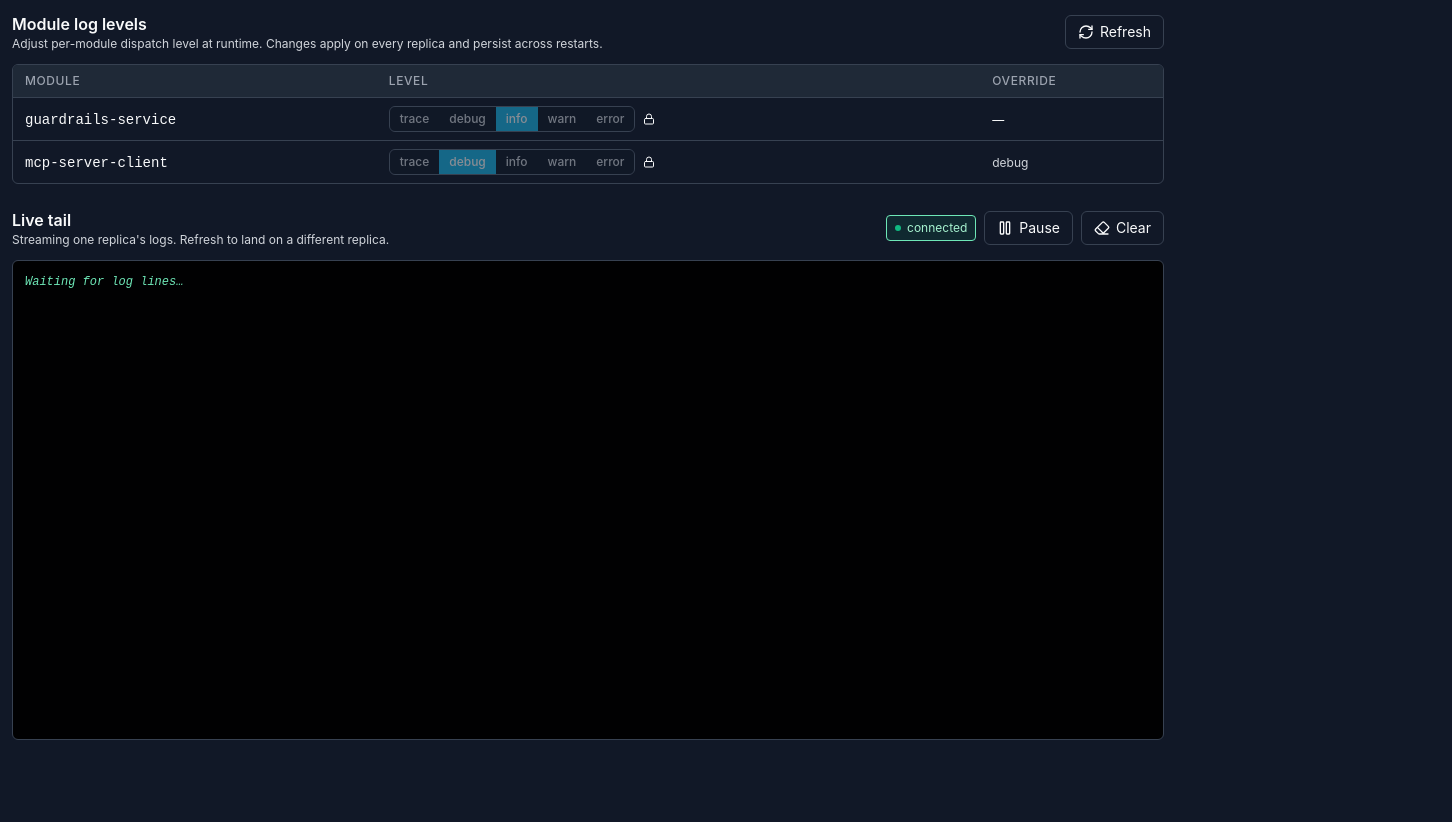
Test: SystemLogsPane › pause button flips state and sends a pause control op
Step 1. Click the button with test id "system-logs-pause-toggle" → point(1029, 228), box [984,211,1073,245]
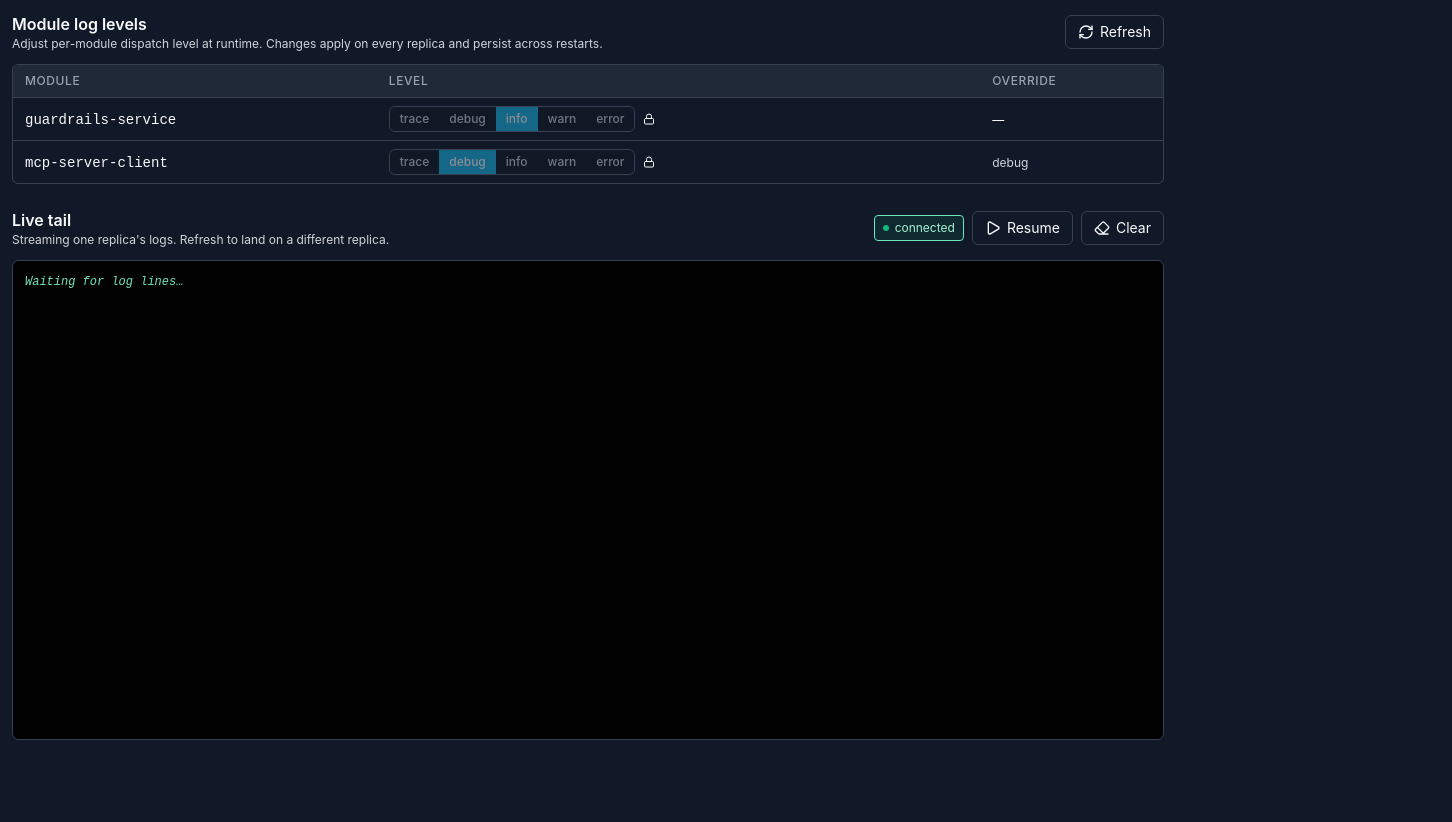
Result: the button with test id "system-logs-pause-toggle" reads "Resume" at [972,211,1073,245]
